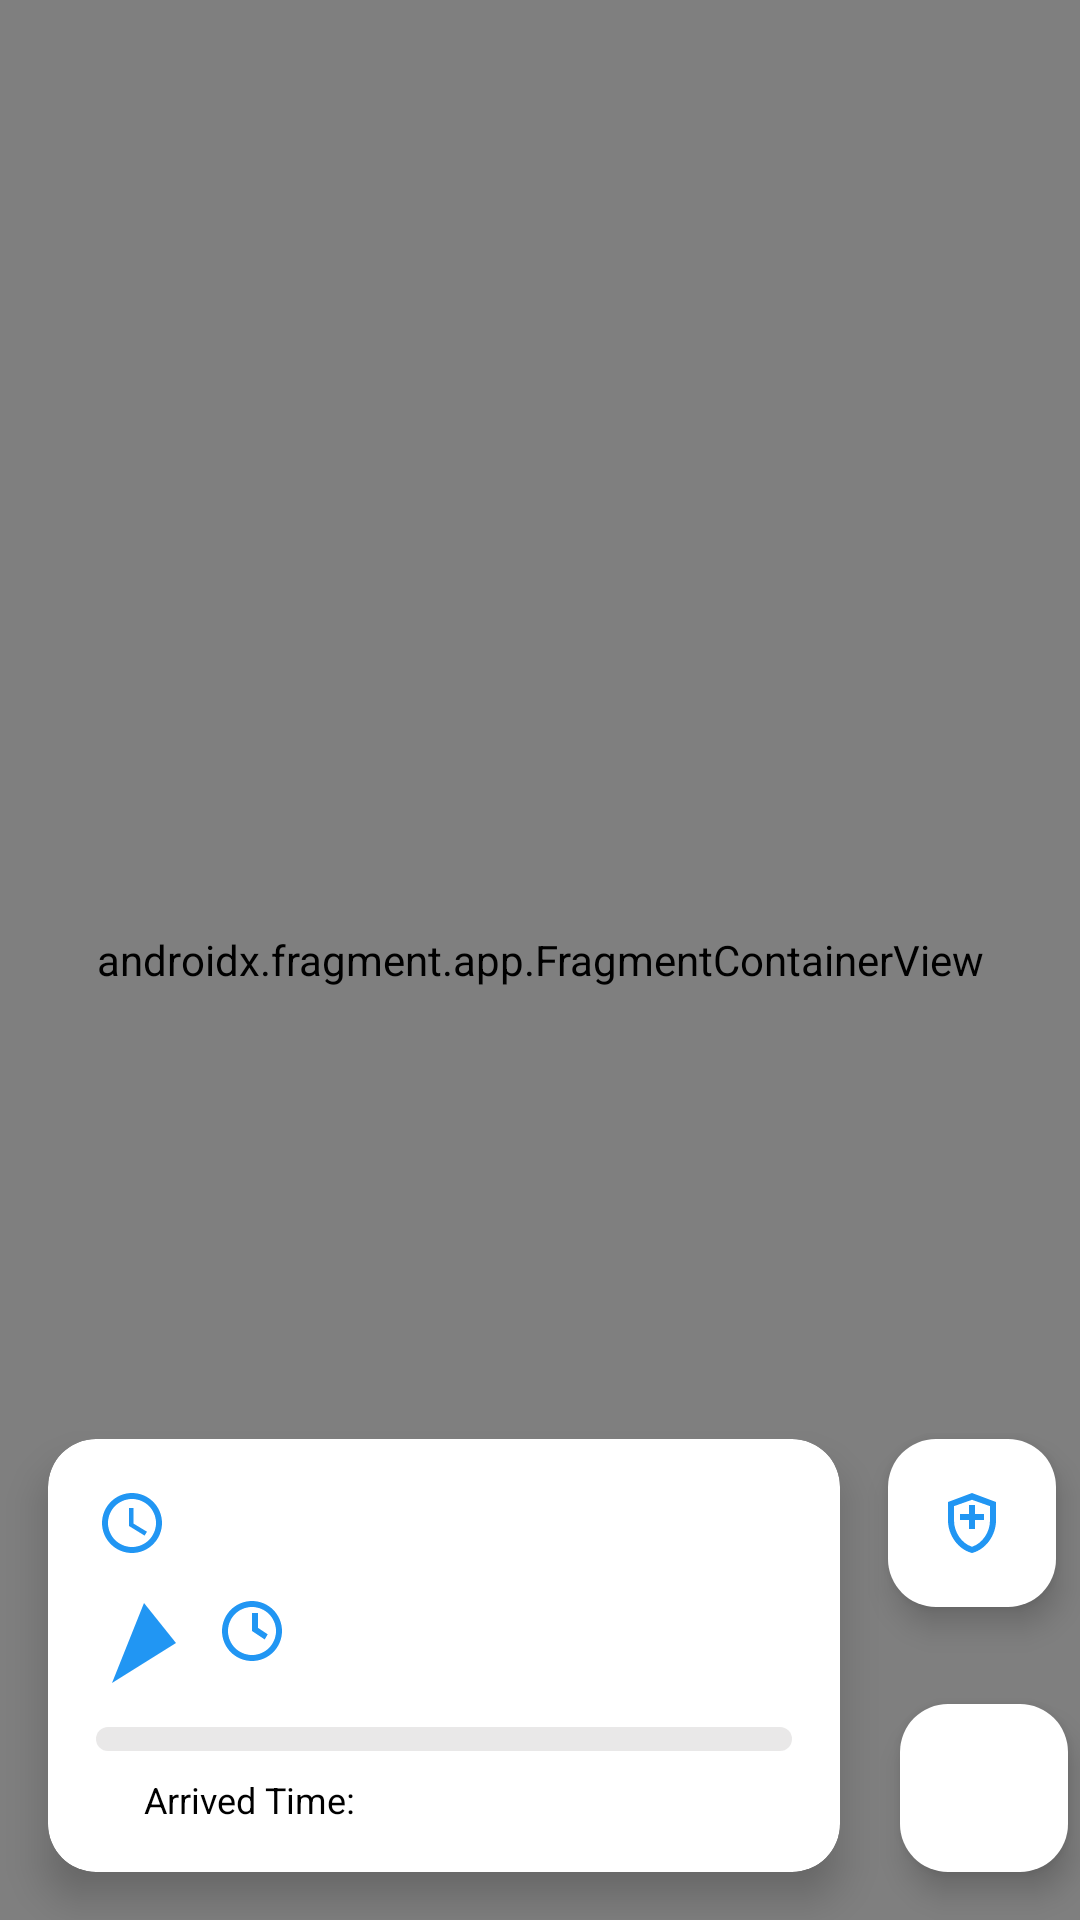

Icon click points for this 1080 × 1920 phone screenshot, format [x,y]:
navigation: [144,1643]
time: [132,1523]
